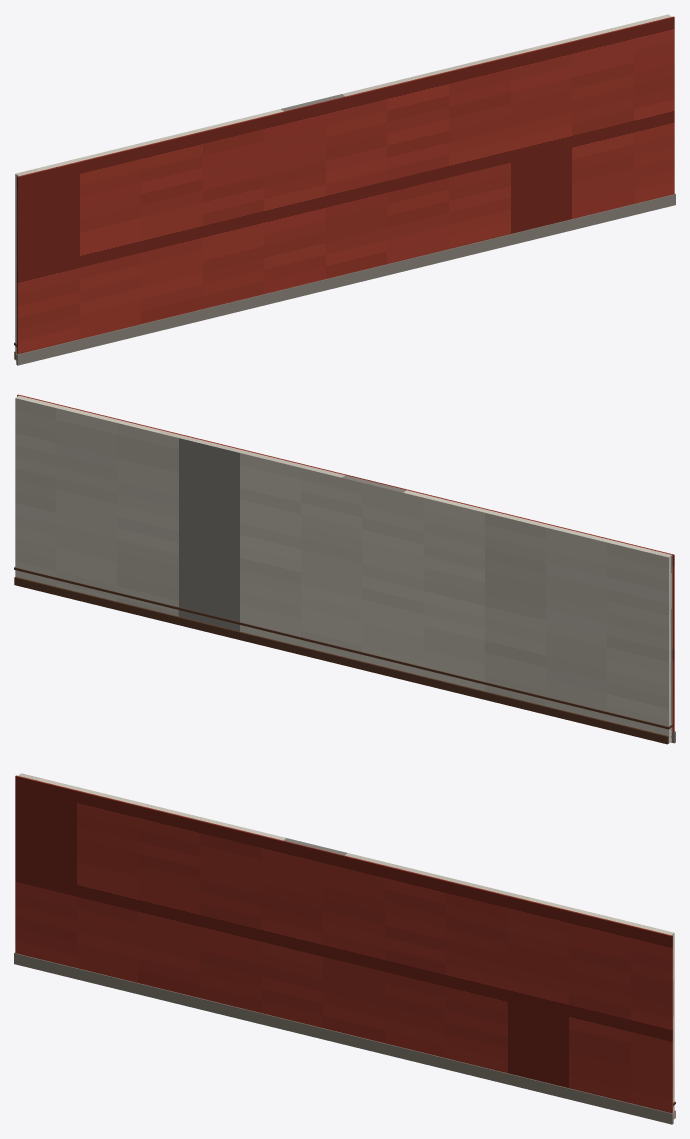
Rendered from fire_back.glb.
The picture shows the model from 3 angles, top to bottom: view 1: azimuth 30°, elevation 25°; view 2: azimuth 150°, elevation 25°; view 3: azimuth 330°, elevation 25°; orthographic projection.
Parts seen in each view (by area): view 1: Box3, Box4, Box1; view 2: Box1, Box2, Box6, Box5, Box3; view 3: Box3, Box4, Box1.
Part boxes in pixels (left/top/right/bottom): Box3: left=17, top=16, right=674, bottom=354; Box4: left=16, top=193, right=675, bottom=365; Box1: left=15, top=14, right=671, bottom=360; Box1: left=15, top=395, right=672, bottom=743; Box2: left=14, top=577, right=668, bottom=744; Box6: left=14, top=567, right=672, bottom=729; Box5: left=16, top=571, right=671, bottom=741; Box3: left=17, top=394, right=674, bottom=732; Box3: left=15, top=775, right=672, bottom=1113; Box4: left=14, top=952, right=673, bottom=1124; Box1: left=18, top=773, right=674, bottom=1119.
Bounding box in the file's own units: 16.27 × 4.44 × 0.25.
Materials: 4 (2 with a texture image).
